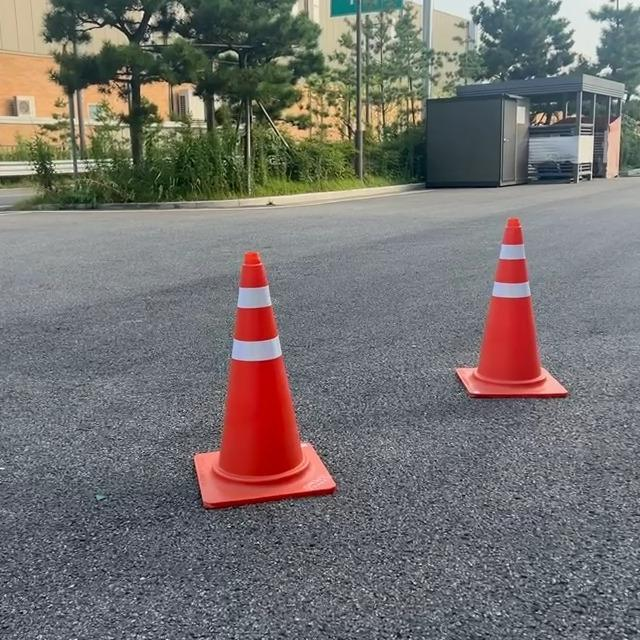fallen_object: (163, 239, 373, 518), (435, 210, 582, 419)
